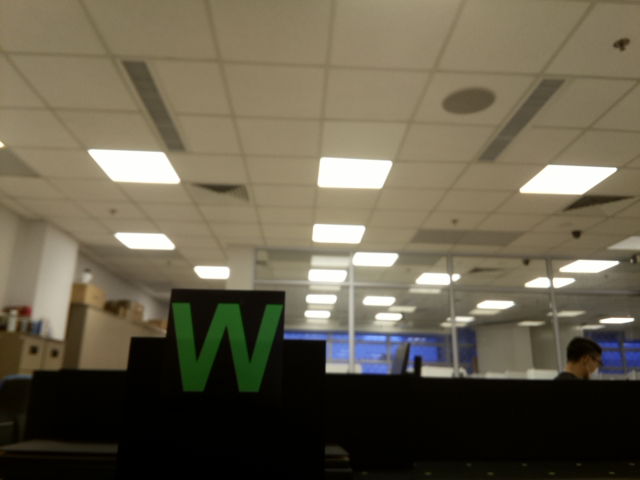w: (171, 300, 285, 397)
